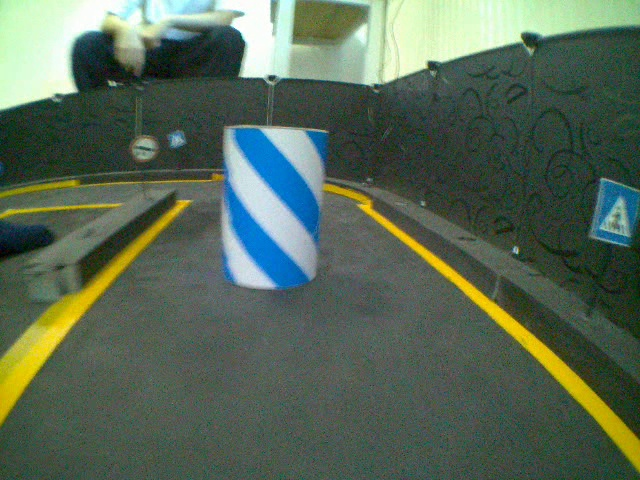bucket: (220, 123, 323, 291)
